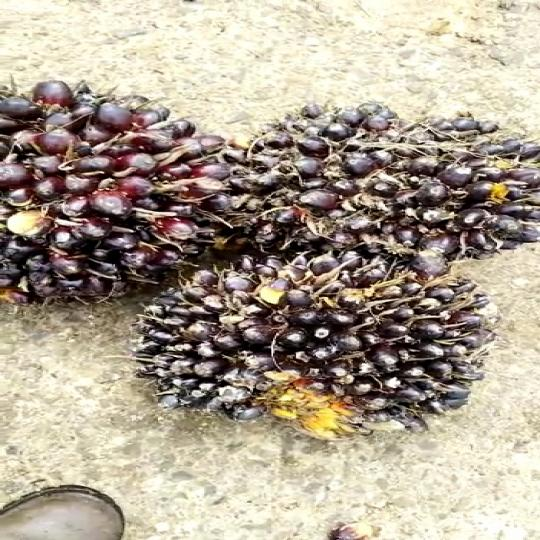mentah: (140, 243, 479, 446), (0, 75, 255, 306), (257, 95, 540, 250)
